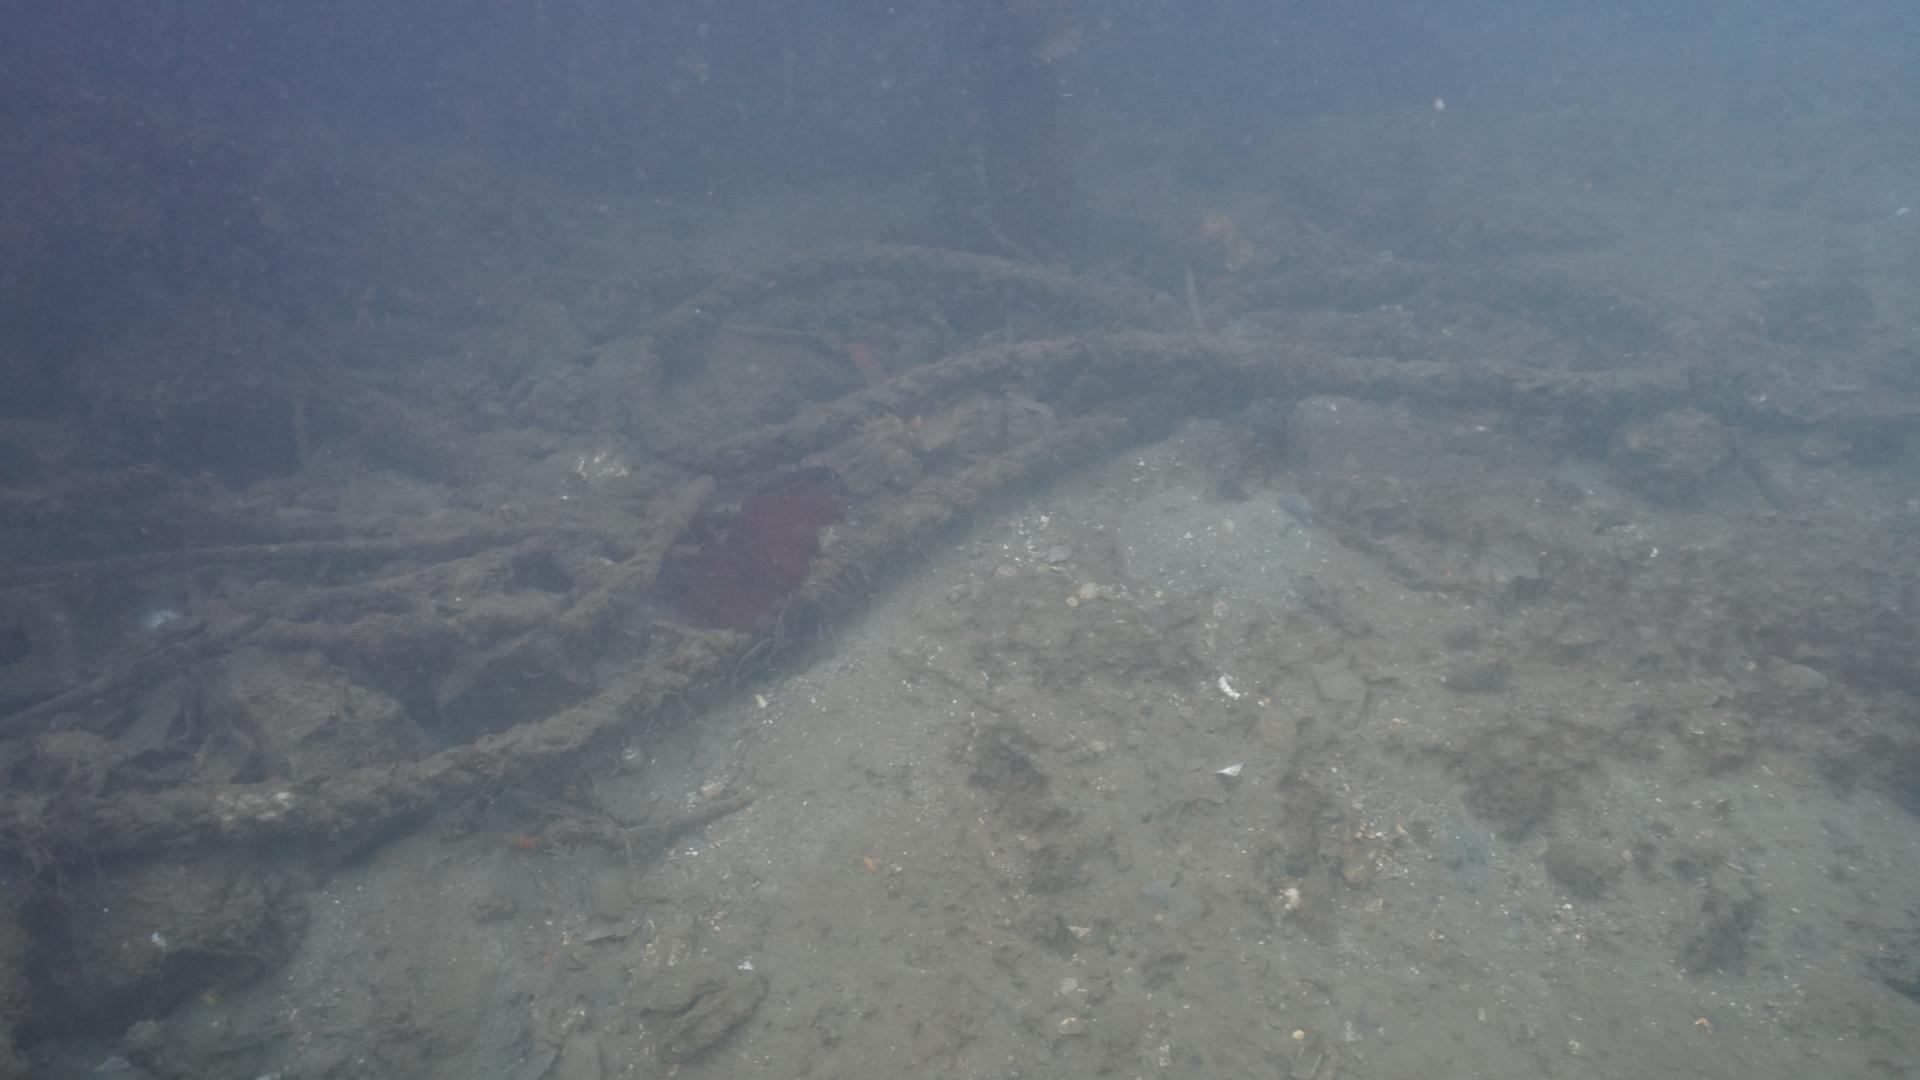bundle of ropes: (0, 240, 1811, 858)
